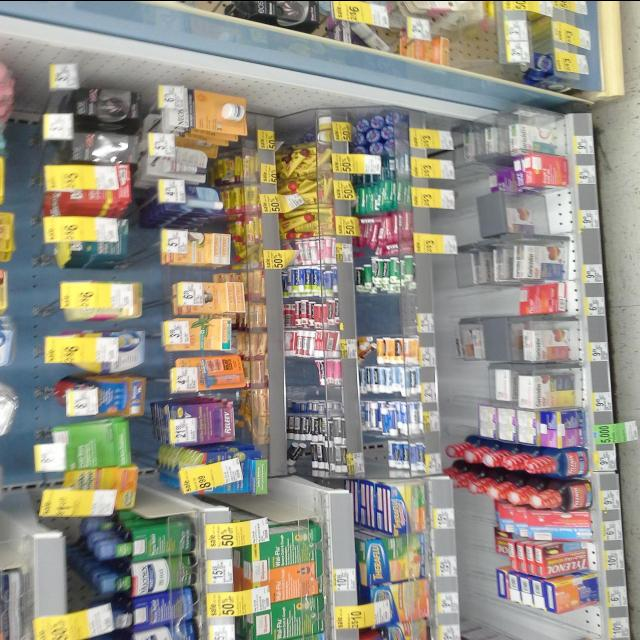empty_space: (249, 488, 309, 516), (364, 297, 408, 323)
